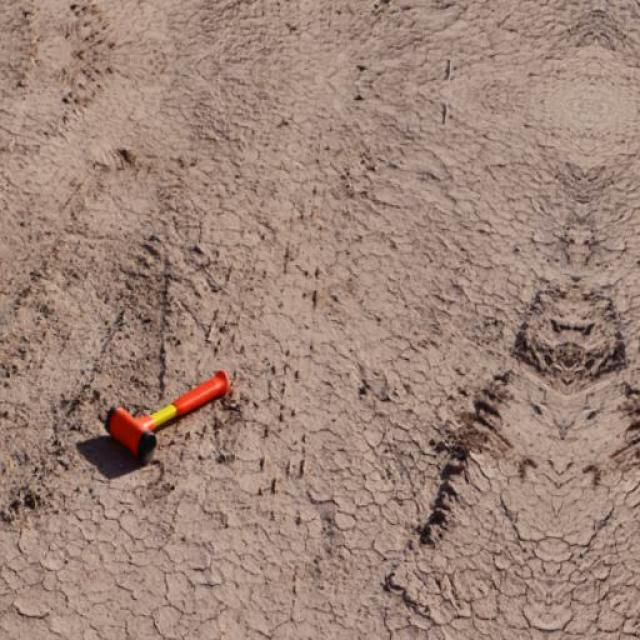mallet: (101, 367, 231, 465)
